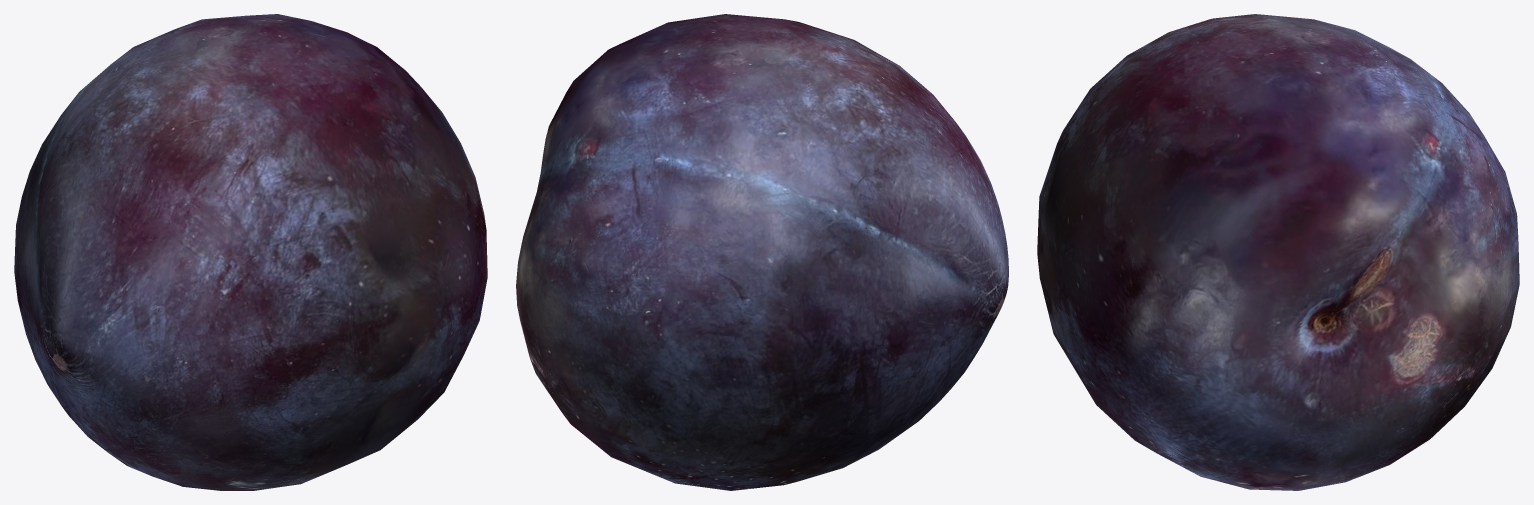
3 renders of one model, left to right at view 1: azimuth 30°, elevation 25°; view 2: azimuth 150°, elevation 25°; view 3: azimuth 270°, elevation 25°, orthographic.
Parts seen in each view (by area): view 1: plum; view 2: plum; view 3: plum.
Boxes of the visible parts, x1,y1,x2,y2 form: plum: (14, 14, 487, 490); plum: (516, 14, 1008, 490); plum: (1037, 14, 1519, 490).
Size of the model in its own units: 0.0577 by 0.0573 by 0.056.
Materials: 1 (1 with a texture image).
